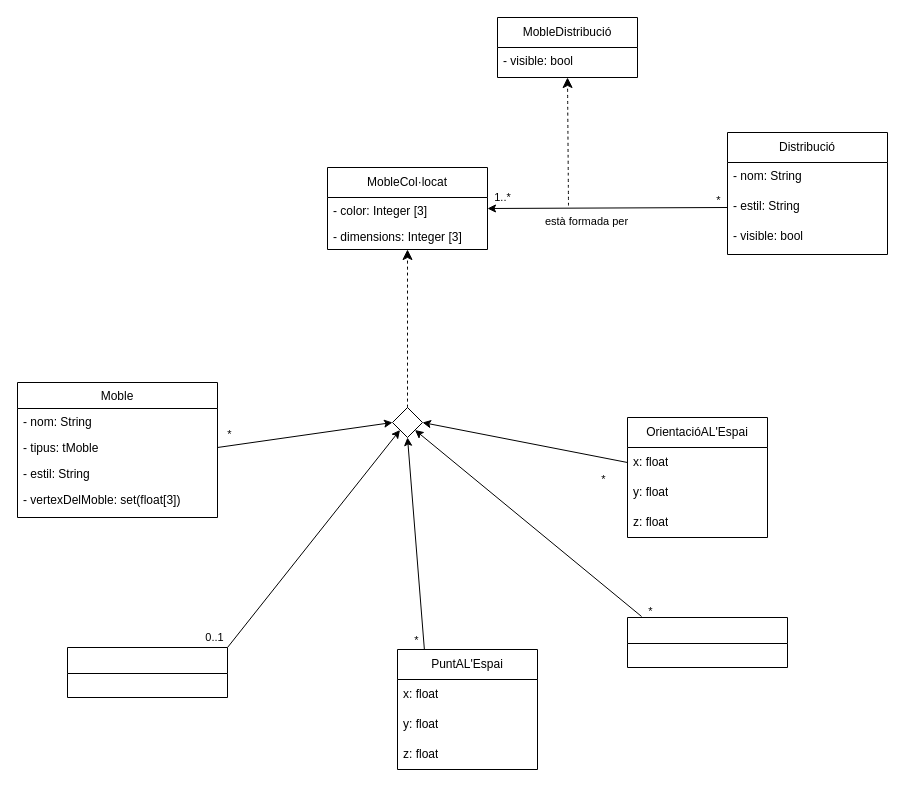
The diagram is 905 pixels wide and 787 high, and some of its shapes have lost their labels. Here are the shapes that lost their labels. From the top down, the centre of each, then its label:
At (707,642): "Visita".
At (147,672): "Habitacio".
